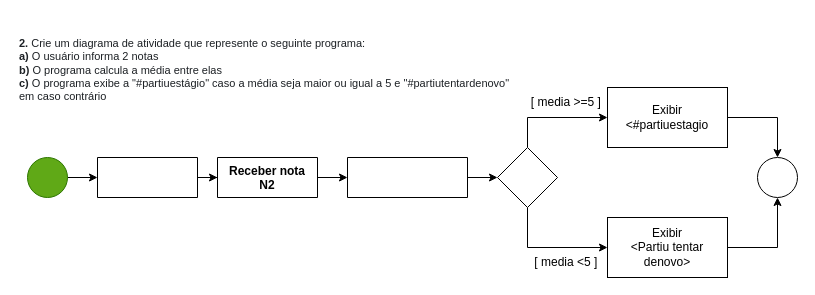
The diagram is 815 pixels wide and 295 high, and some of its shapes have lost their labels. Each missing label, with the centre of its shape:
"Calcular media media = (N1+N2)/2" belongs at [407,177].
"Receber nota N1" belongs at [147,177].
